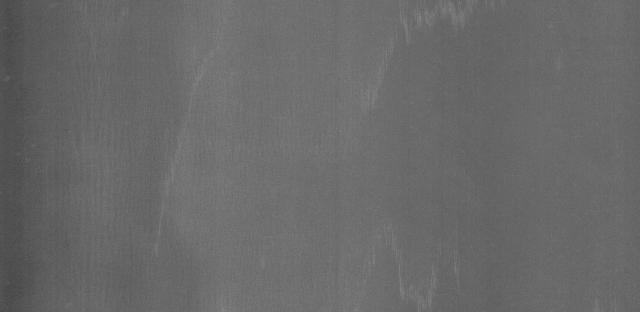silk_spot: (357, 0, 482, 114)
